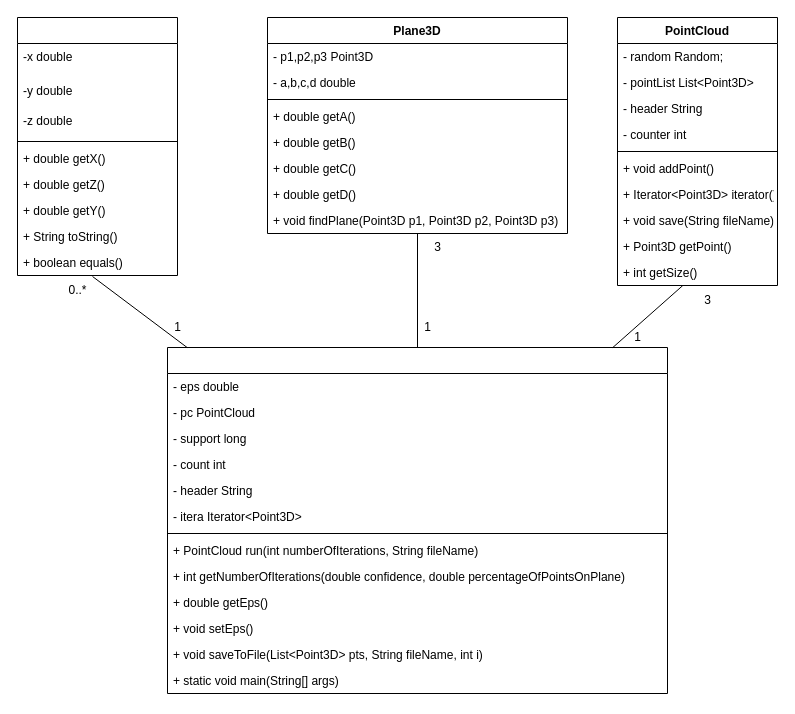
This 795x714 diagram has some shape labels left out. The box of each missing label's shape, as (x1, y1, x2, y2) in pixels:
PlaneRANSAC: (166, 346, 668, 694)
Point3D: (16, 16, 178, 276)
